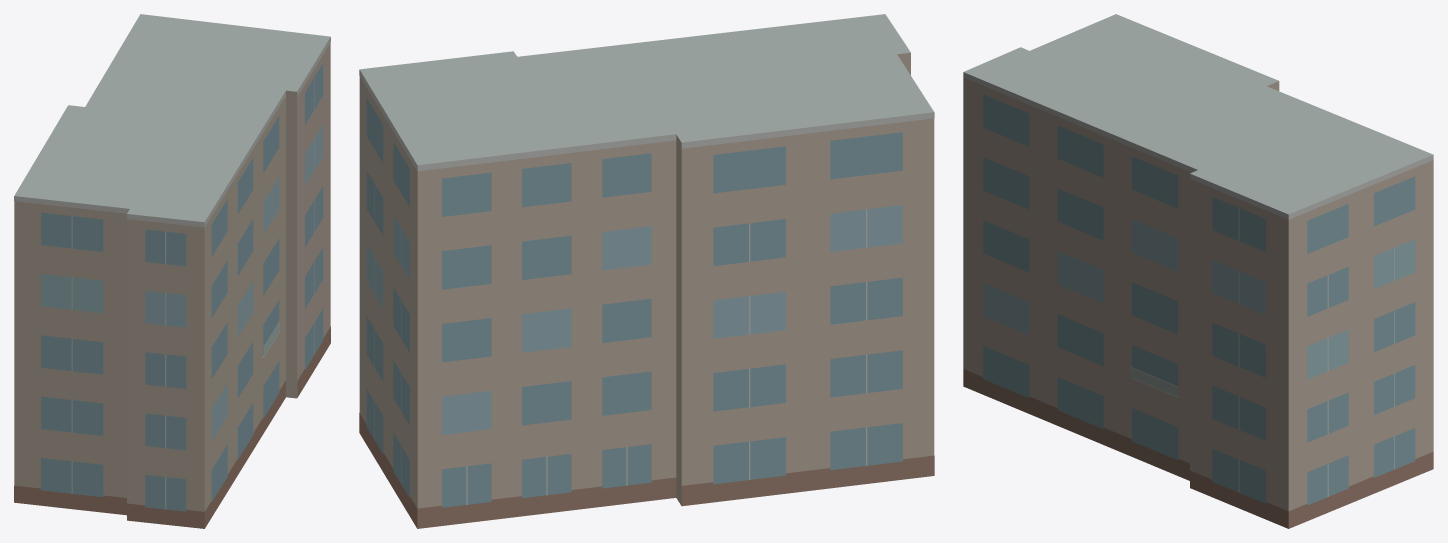
The model's file is survey-upis-32669721.glb.
3 renders of one model, left to right at view 1: azimuth 30°, elevation 25°; view 2: azimuth 150°, elevation 25°; view 3: azimuth 270°, elevation 25°, orthographic. The views are drawn at different scales.
Parts seen in each view (by area): view 1: survey-upis-32669721.tmp; view 2: survey-upis-32669721.tmp; view 3: survey-upis-32669721.tmp.
Part boxes in pixels (x1,y1,x2,y2): survey-upis-32669721.tmp: (14,14,330,528); survey-upis-32669721.tmp: (359,14,934,528); survey-upis-32669721.tmp: (963,14,1433,528).
Size of the model in its own units: 19.84 by 14.5 by 19.67.
